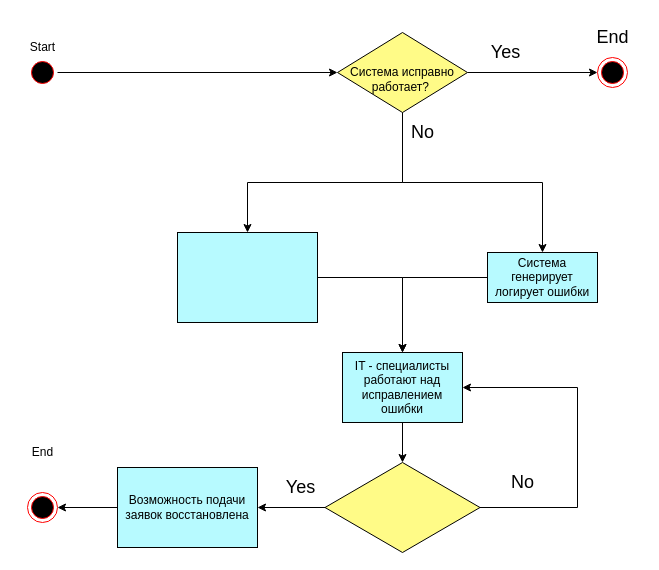
This 659x570 diagram has some shape labels left out. The centre of each missing label's shape, as x and y in pixels:
Возможность подачи всех видов электронных заявок приостановленна: point (247, 277)
Проблема была решена?: point (402, 507)
